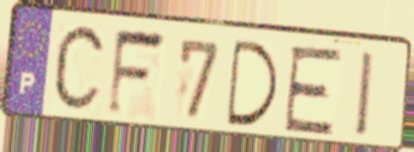7: (177, 38, 220, 122)
C: (49, 20, 110, 119)
D: (225, 37, 282, 129)
E: (281, 44, 345, 137)
F: (104, 26, 169, 121)
I: (354, 48, 377, 141)
